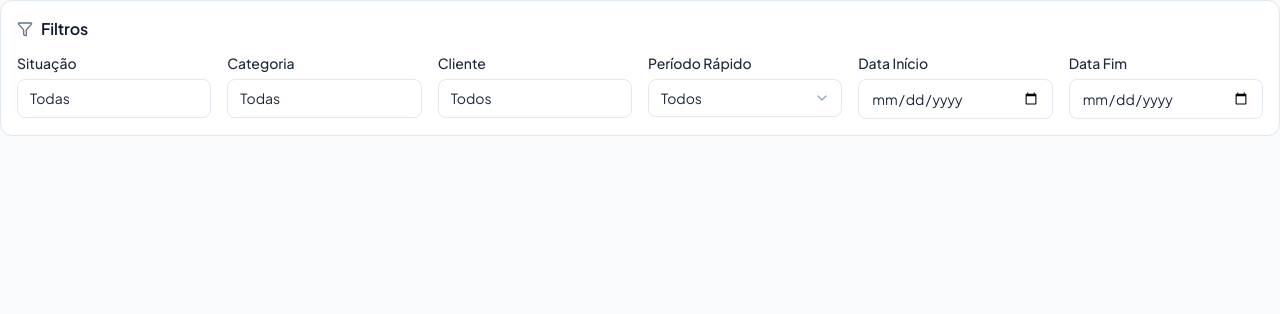
Test case: MultiSelect na barra de filtros de Contas › clicar fora fecha o dropdown
The width and height of the screenshot is (1280, 314).
Click the button named "Situação Todas". click: coordinates (114, 98)
box: [17,79,211,118]
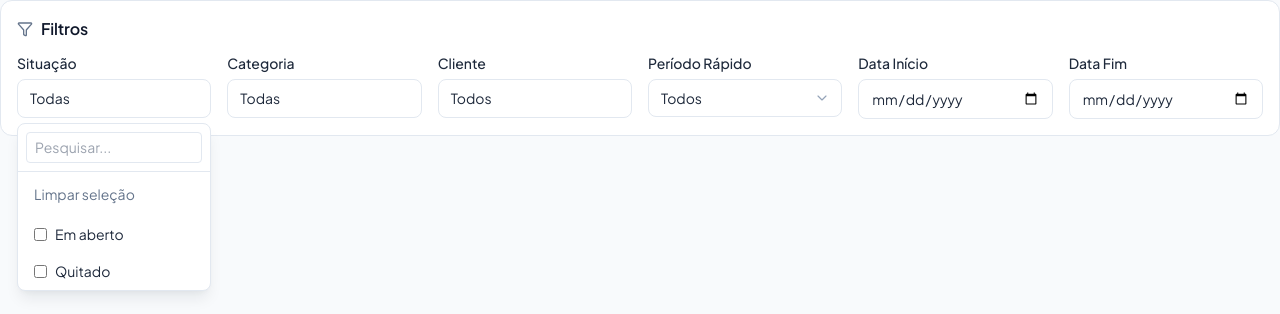
Result: the field with placeholder "Pesquisar..." is shown at [26,132,202,163]
Press the mouse on the element that starts with "Filtros" at coordinates (640, 68), box [0,0,1279,136]
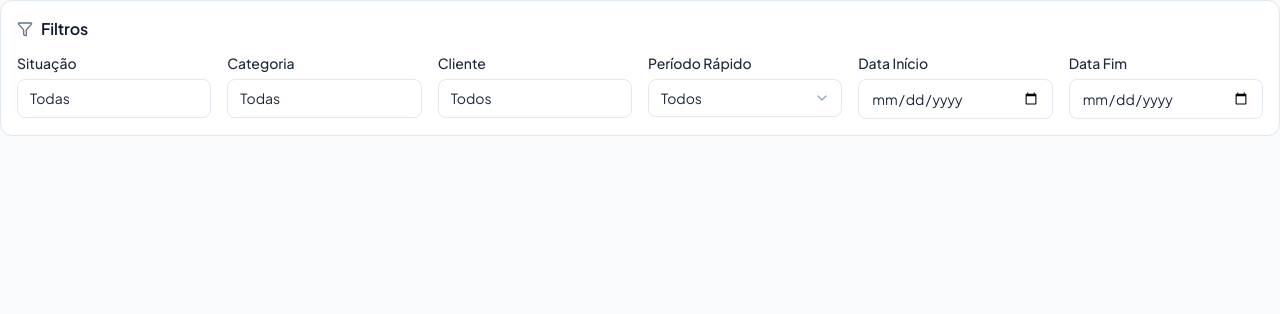
Result: the field with placeholder "Pesquisar..." is gone
